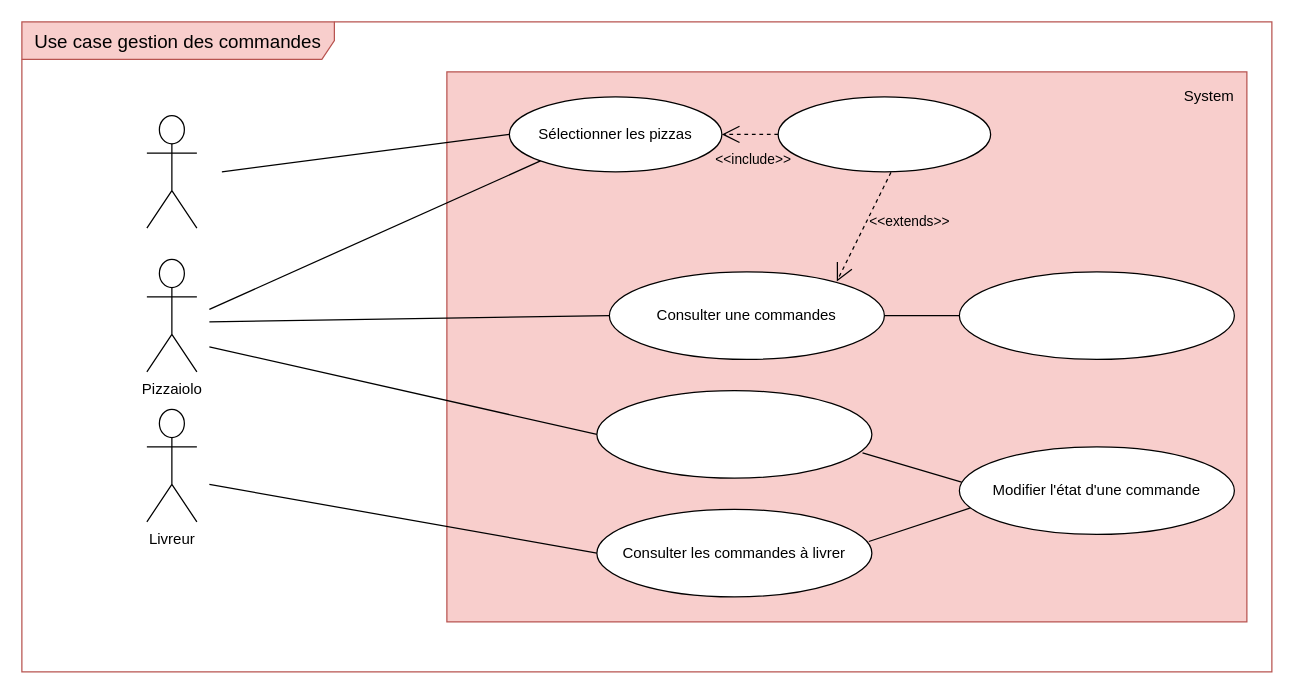
Some shapes in this 1294 by 694 pixel diagram are drawn without their labels. The centre of each missing label's shape, as x and y in pixels:
"Client" goes at (171,171).
"Consulter toutes les commandes" goes at (734,433).
"Créer une commande" goes at (884,134).
"Modifier une commande" goes at (1096,315).
